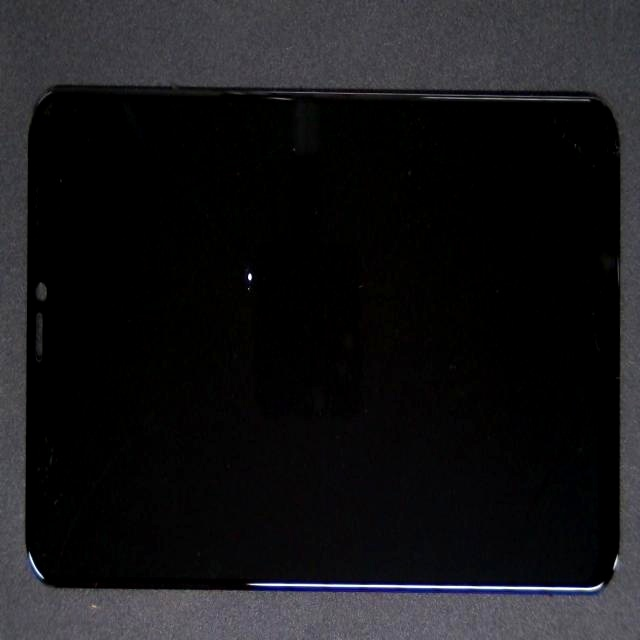stain: (146, 88, 369, 374)
